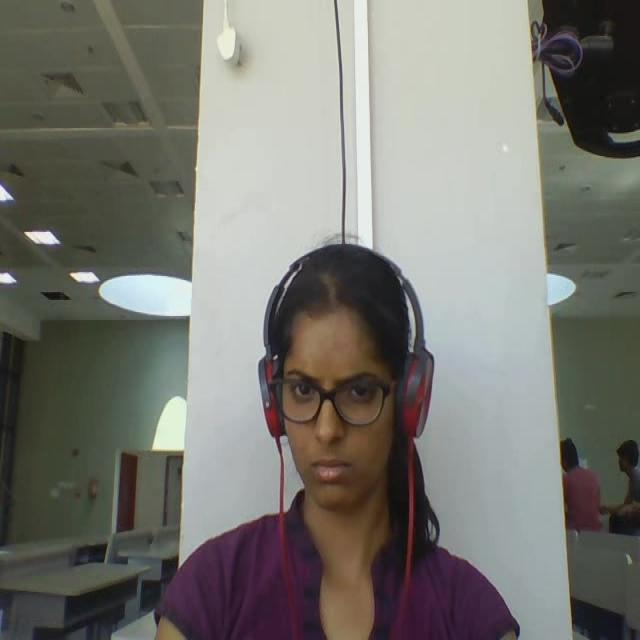Engaged: (234, 227, 472, 544)
